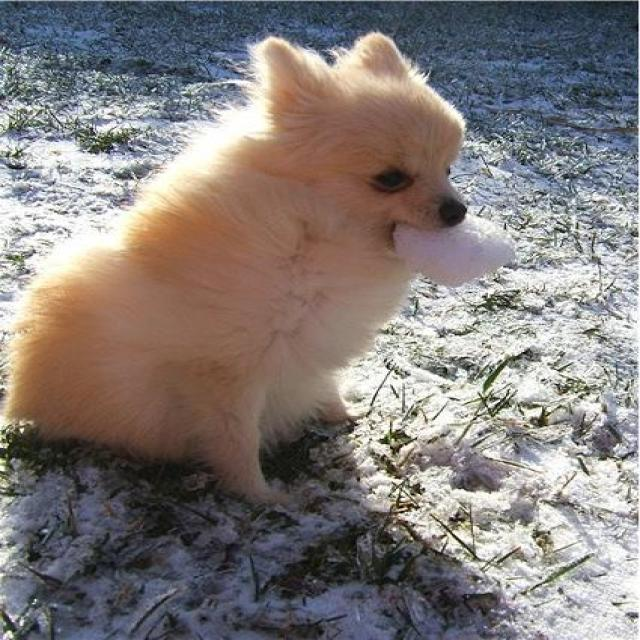sitting: (12, 31, 486, 507)
